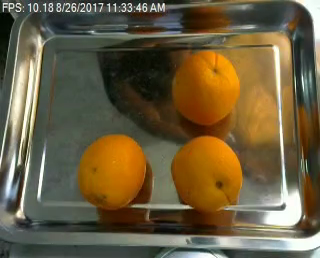Orange: (170, 135, 244, 212), (76, 133, 146, 212), (171, 50, 240, 125)
